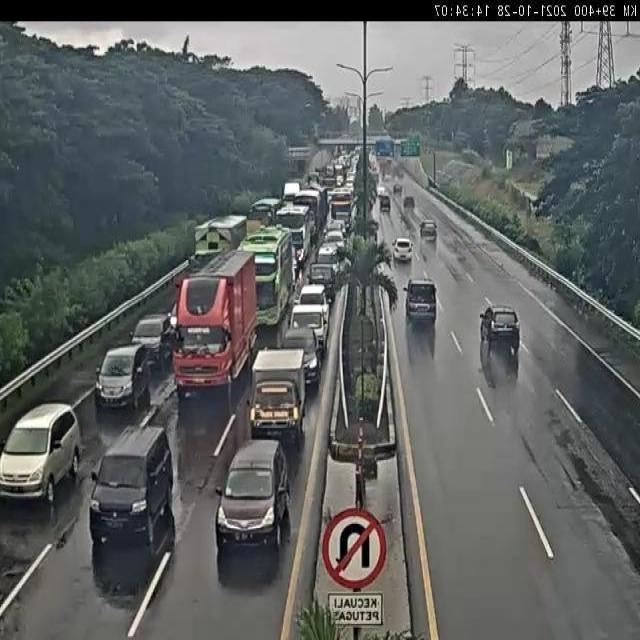Bus: (240, 228, 294, 326), (276, 204, 312, 257)
Car: (88, 428, 183, 558), (215, 438, 292, 558), (0, 403, 81, 502), (248, 348, 309, 444), (95, 343, 153, 412), (130, 314, 176, 373), (481, 304, 522, 354), (282, 326, 320, 376), (403, 277, 438, 324), (292, 305, 326, 342), (298, 285, 328, 309), (416, 217, 441, 244), (391, 236, 416, 260), (315, 245, 341, 268), (402, 194, 422, 214), (377, 193, 393, 214)
Truck: (176, 256, 256, 391), (196, 206, 248, 253)
